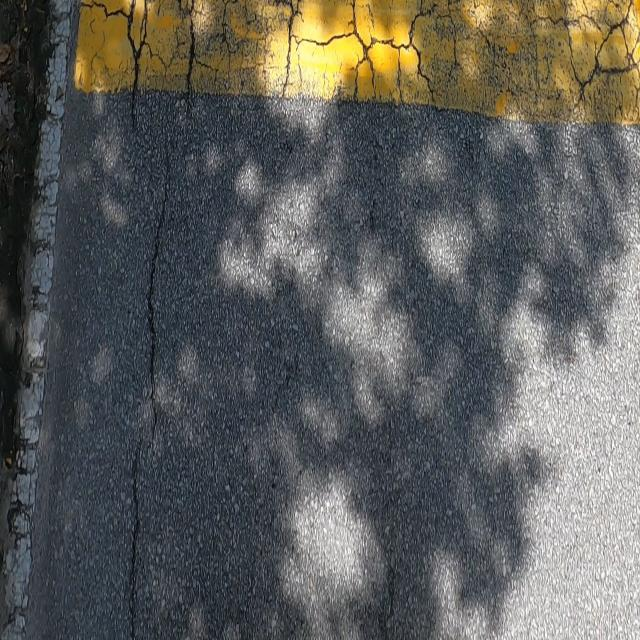Retak-Buaya: (80, 4, 457, 124), (532, 3, 640, 98)
Retak-Memanjang: (141, 143, 175, 444), (126, 435, 144, 633)
